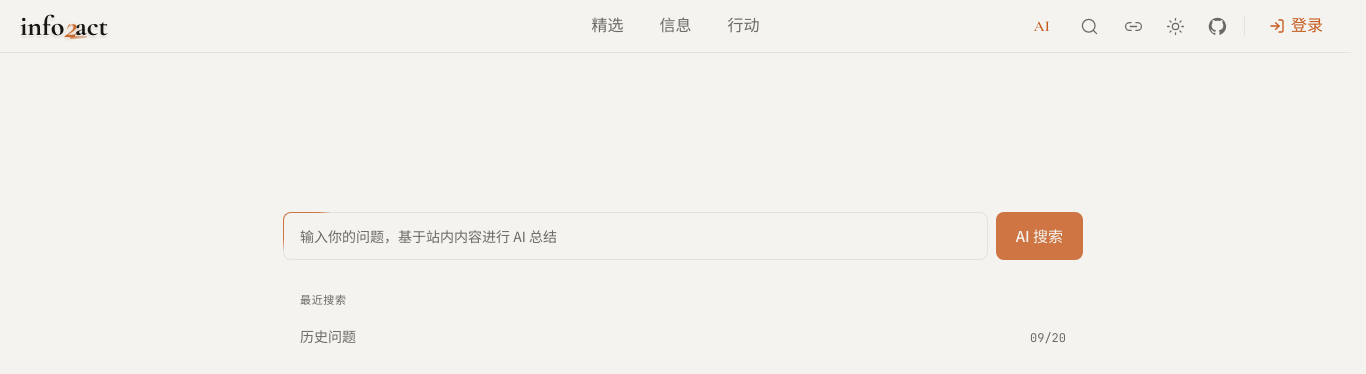
Test: AI search Wave B integration › restores a done history job using only GET and polls only while running
The width and height of the screenshot is (1366, 374).
Expected: the element named "搜索记录" is shown, [283,292,1083,358]
Click the link "历史问题 09/20" at (328, 337), box [300,330,1066,346]
Wait 10001 ms
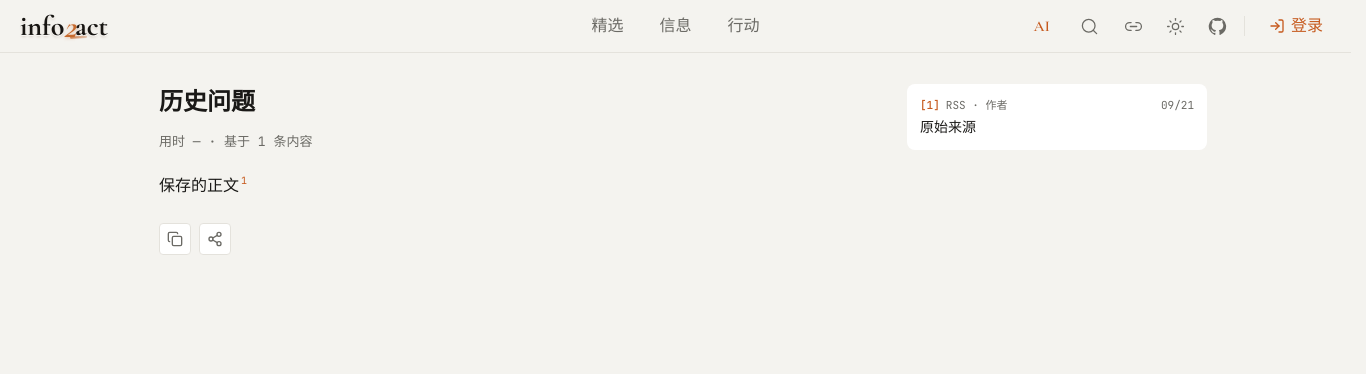
Expected: the heading reads "历史问题", [159,89,255,115]
Expected: the element "搜索记录" is gone
